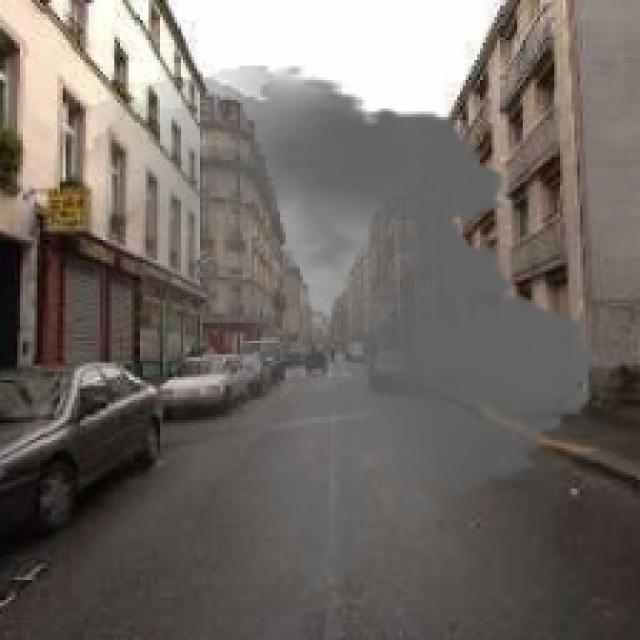Smoke: (51, 66, 614, 594)
